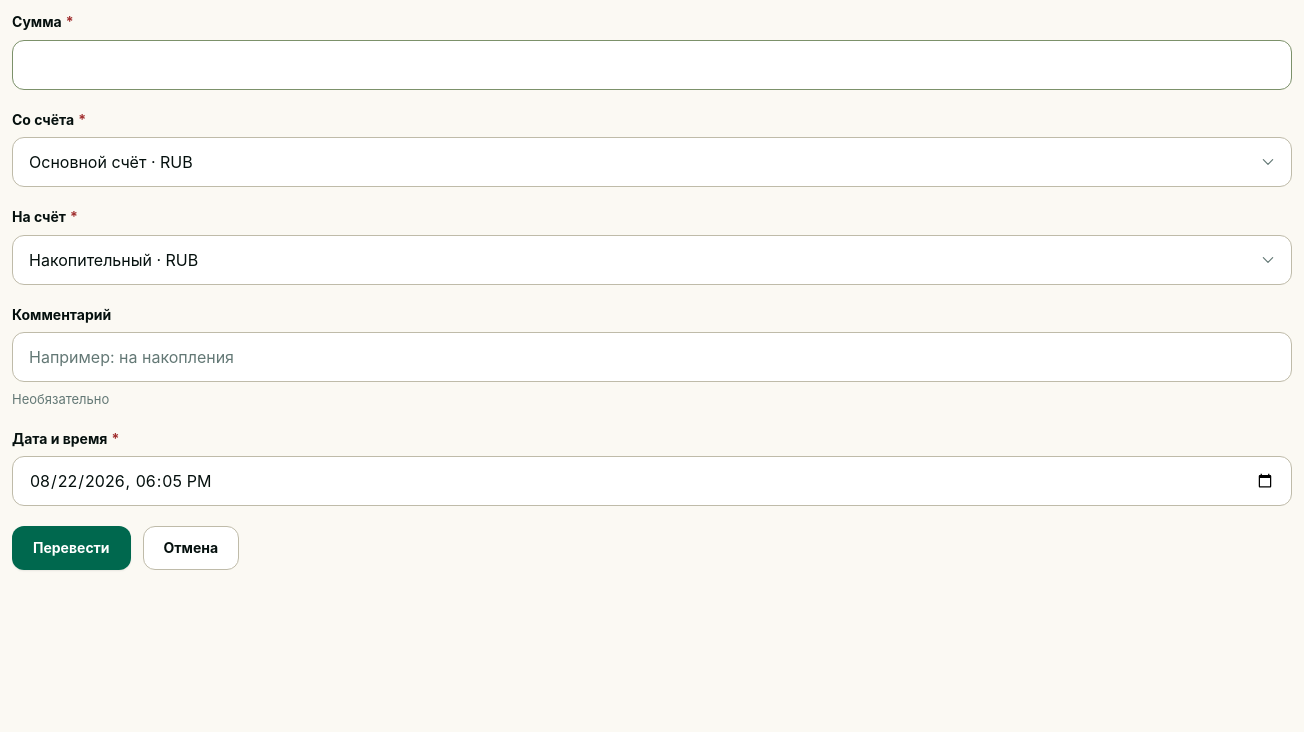
Test case: TransferForm › clears a conflicting destination when the source changes
Select "Накопительный · RUB" in the dropdown labelled "Со счёта*". click: (652, 162)
box: [12, 137, 1292, 187]
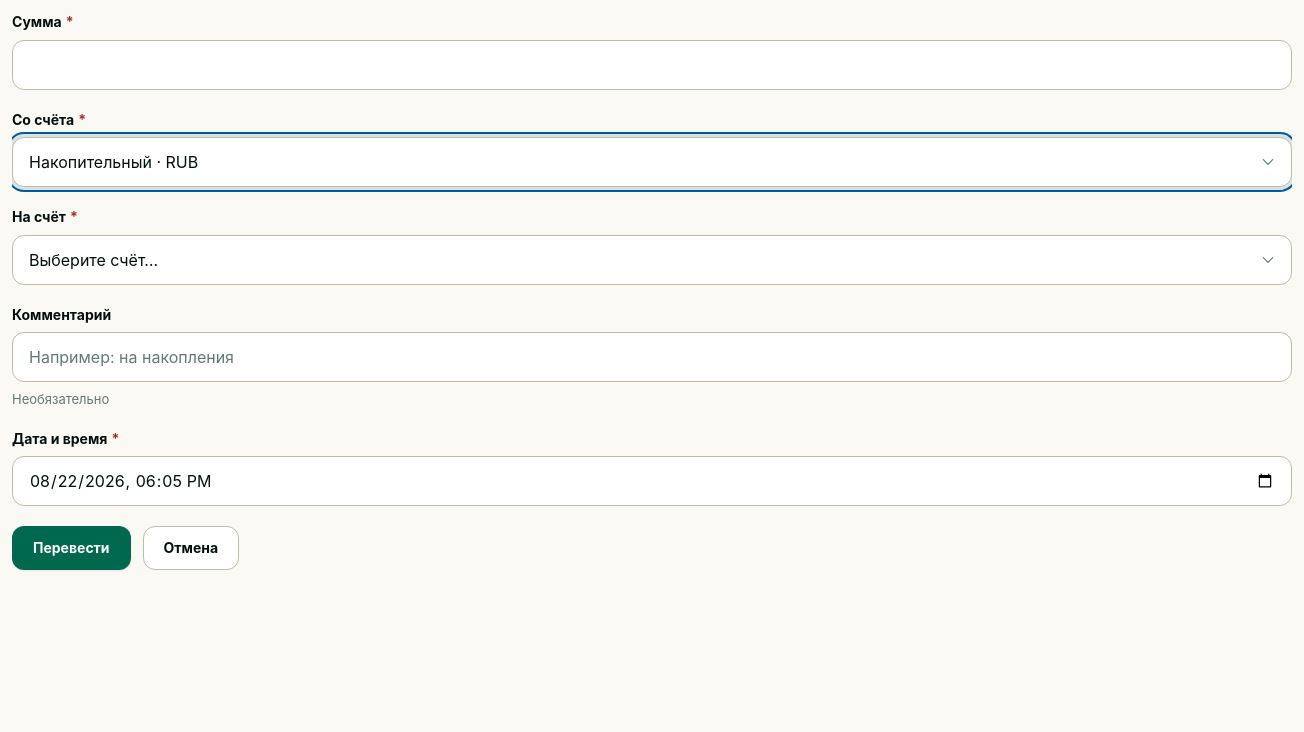
Type "1000" into the field with test id "transfer-amount". click: (652, 65)
box: [12, 40, 1292, 90]
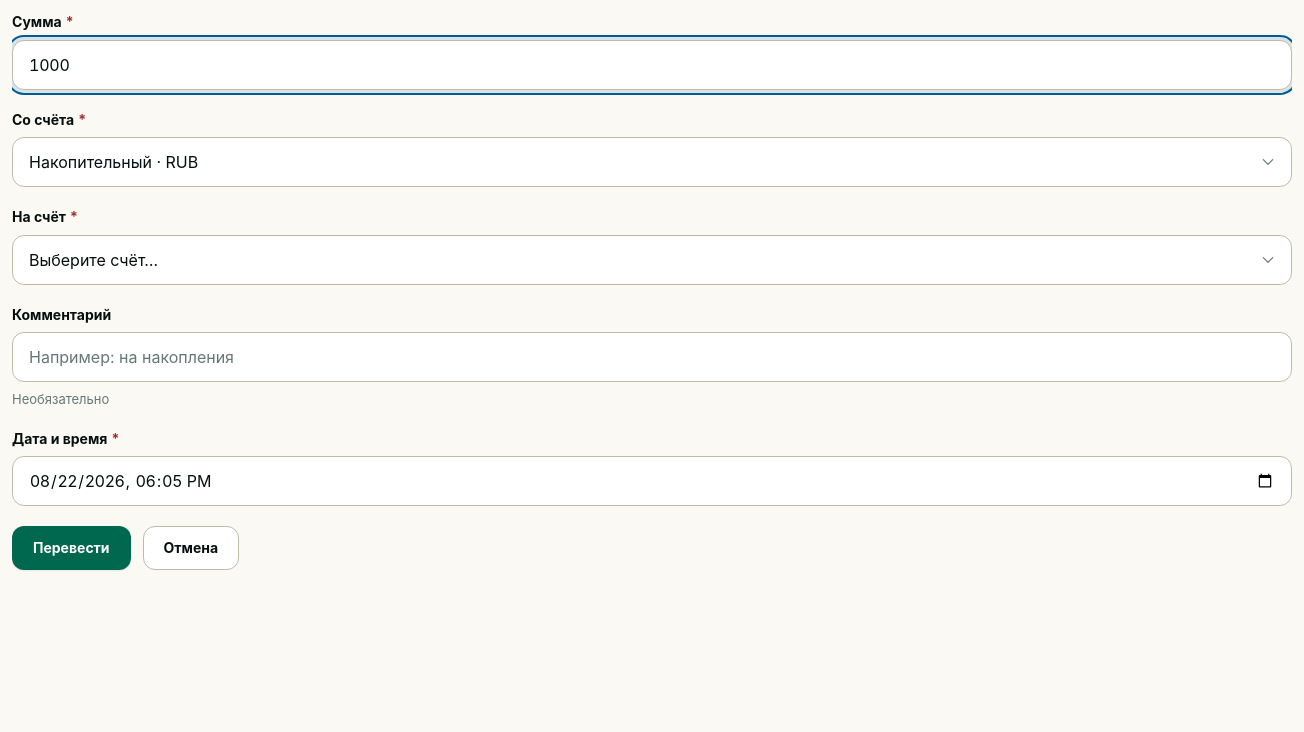
Click the button "Перевести". click: (71, 548)
box: [12, 526, 131, 570]
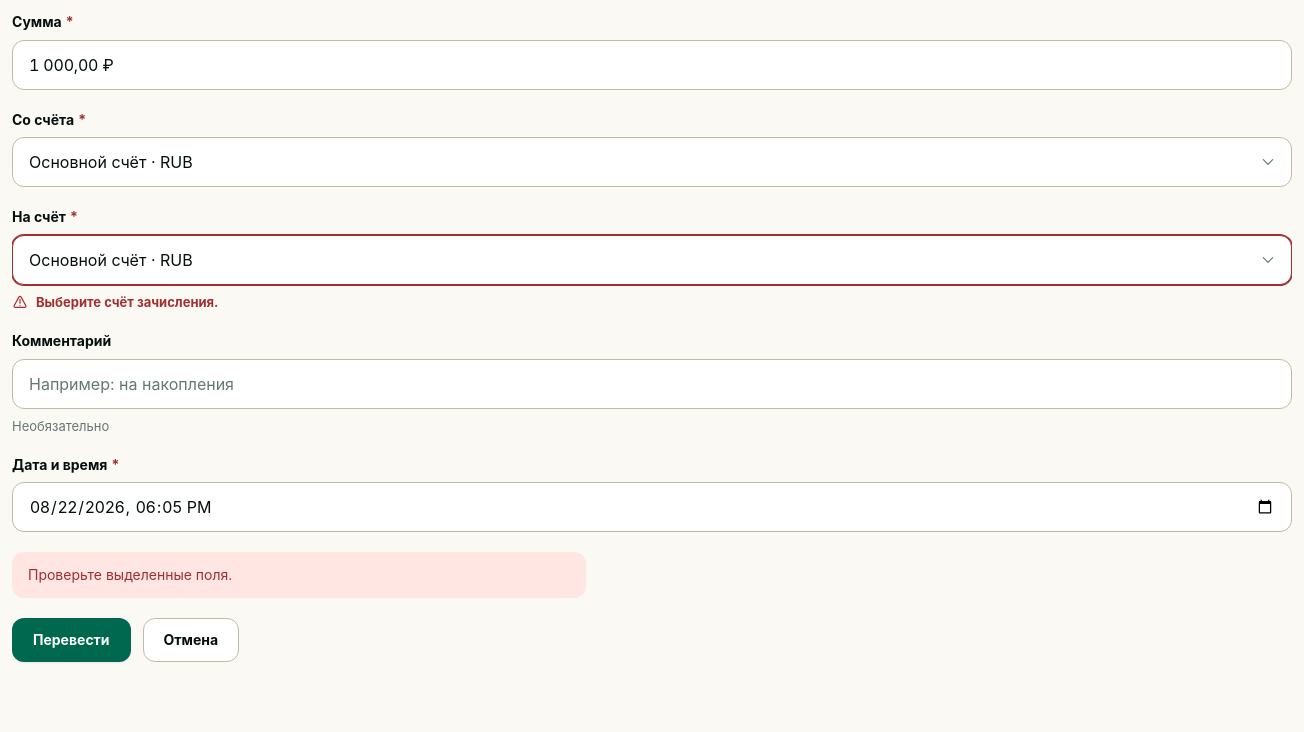
Check: the text "Выберите счёт зачисления." is shown, box [36, 293, 218, 311]
